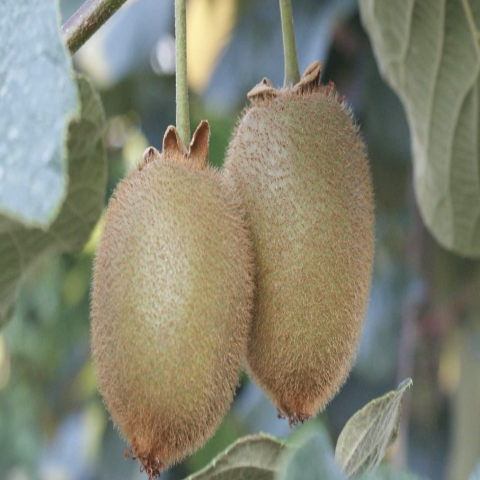kiwi: (211, 73, 391, 421), (91, 113, 256, 480)
